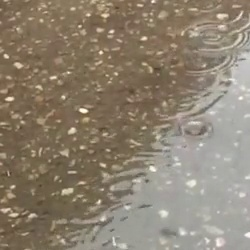drop: (184, 18, 247, 56), (180, 47, 238, 76), (181, 120, 212, 140), (159, 226, 179, 240)
